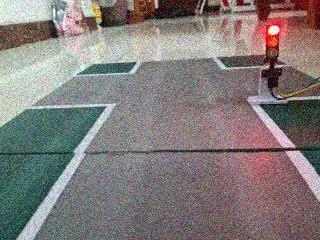red: (256, 20, 285, 83)
